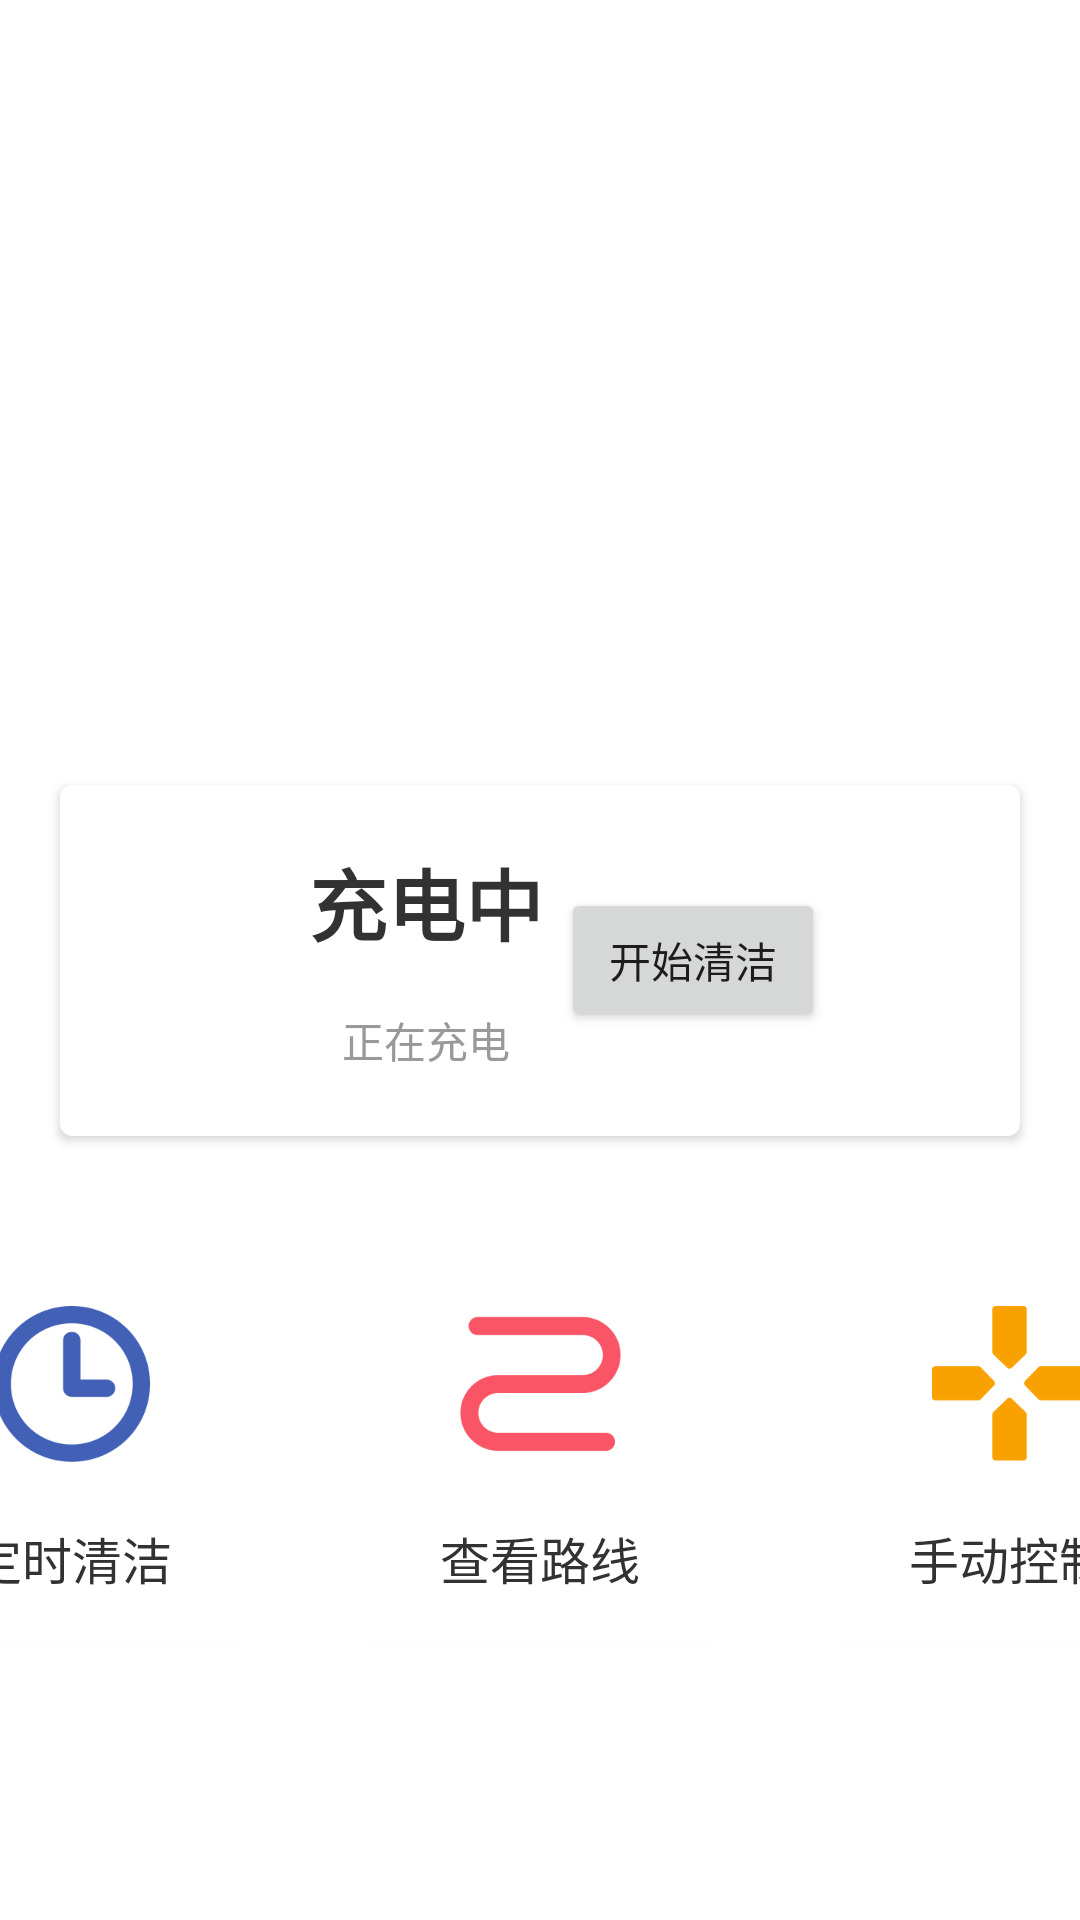

Icon click points for this 1080 × 1920 phone screenshot, format (x=x, y=y):
manual control: (x=1006, y=1383)
view directions: (x=540, y=1383)
